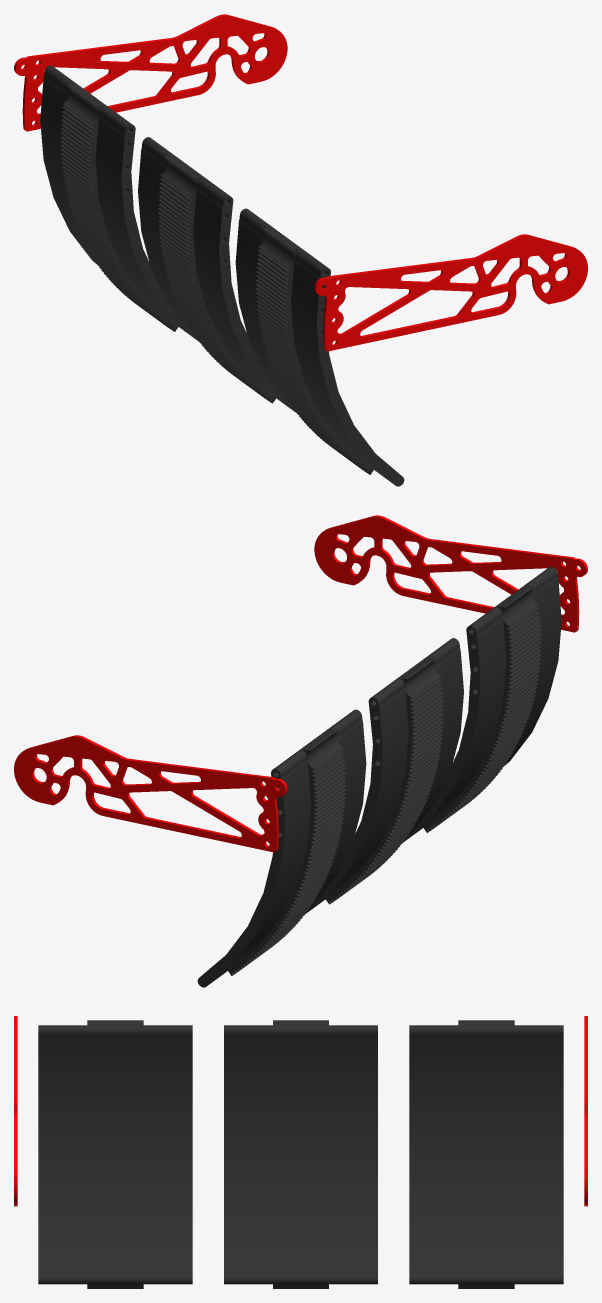
The picture shows the model from 3 angles, top to bottom: view 1: azimuth 30°, elevation 25°; view 2: azimuth 150°, elevation 25°; view 3: azimuth 270°, elevation 25°; orthographic projection. The views are drawn at different scales.
Parts seen in each view (by area): view 1: Spur gear (372 teeth) (×3), stick (×2); view 2: Spur gear (372 teeth) (×3), stick (×2); view 3: Spur gear (372 teeth) (×3), stick (×2).
Part boxes in pixels (bbox=[...]): Spur gear (372 teeth) (×3): bbox=[40, 65, 404, 486]; stick (×2): bbox=[14, 14, 587, 351]; Spur gear (372 teeth) (×3): bbox=[197, 566, 561, 987]; stick (×2): bbox=[14, 515, 587, 852]; Spur gear (372 teeth) (×3): bbox=[38, 1020, 563, 1288]; stick (×2): bbox=[14, 1016, 587, 1206].
Bounding box in the file's own units: 0.2702 × 0.233 × 0.5207.
